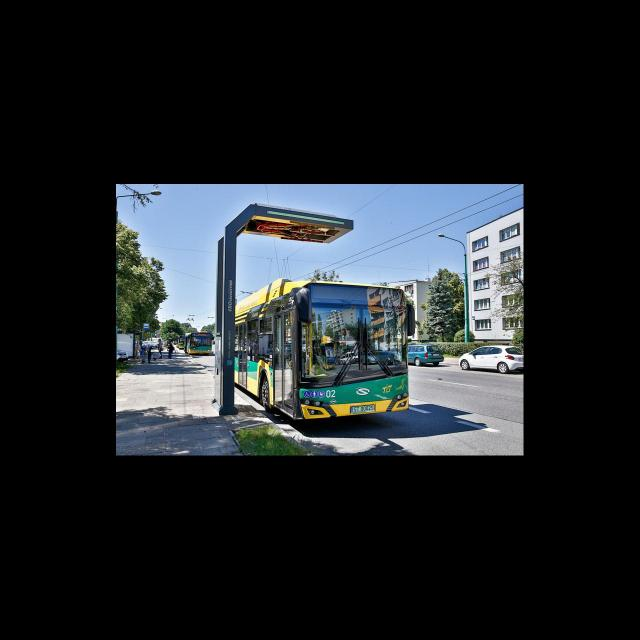Bus: (228, 279, 411, 420)
Car: (459, 346, 524, 374)
Electric pole: (438, 233, 471, 343)
